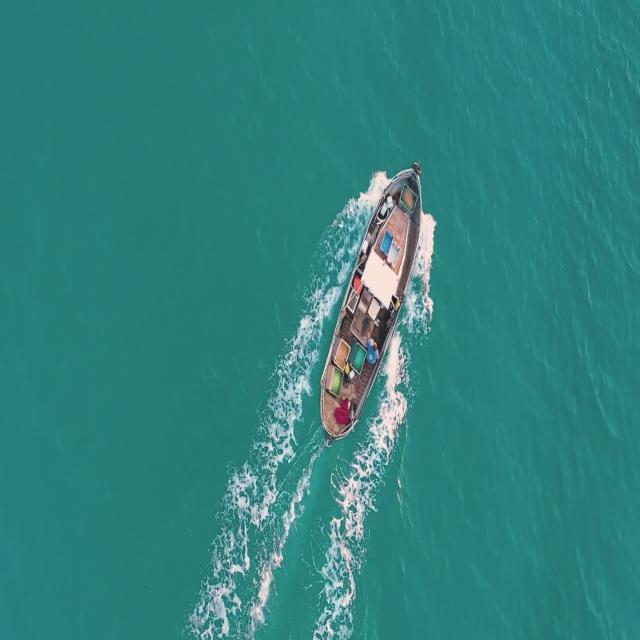ship: (317, 158, 428, 440)
